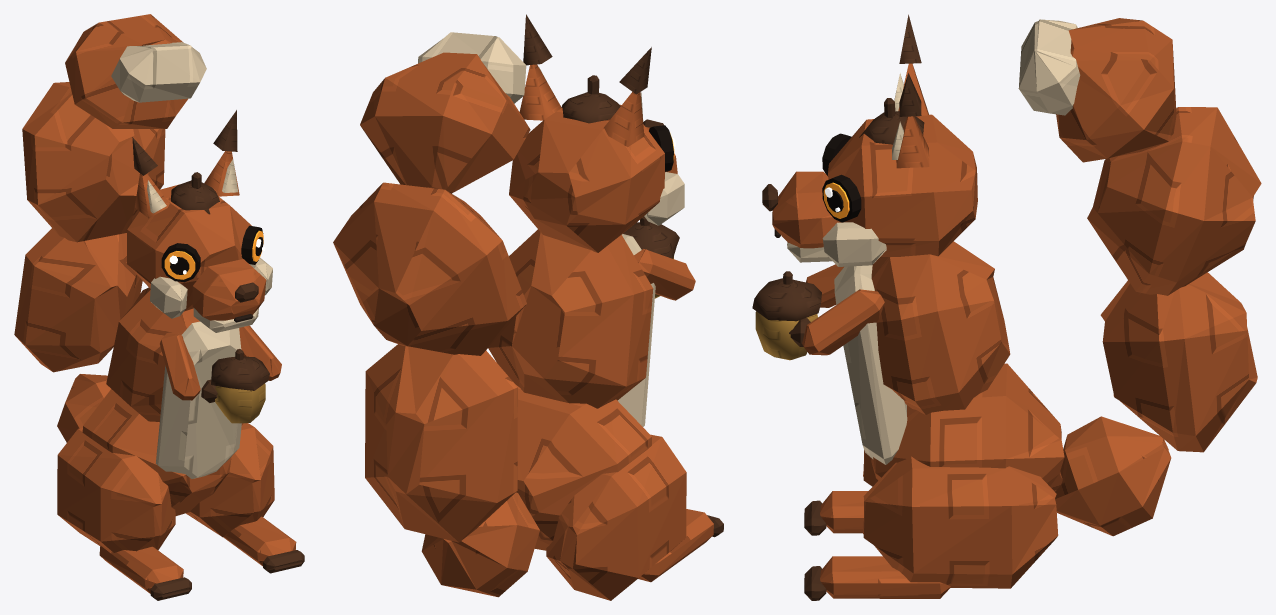
File: AcornSquirrel.glb
3 renders of one model, left to right at view 1: azimuth 30°, elevation 25°; view 2: azimuth 150°, elevation 25°; view 3: azimuth 270°, elevation 25°, orthographic. The views are drawn at different scales.
Visible parts, largest first — view 1: tail_3, tail_2, haunch_R, belly, tail_4, head.001, torso, pelvis, haunch_L, tail_fluff, snout, foot_R (+18 smaller); view 2: tail_2, tail_3, torso, tail_4, head.001, haunch_R, pelvis, tail_1, tail_fluff, arm_R, foot_R, ear_L (+8 smaller); view 3: tail_3, haunch_L, tail_2, torso, tail_4, head.001, pelvis, tail_1, belly, tail_fluff, foot_L, snout (+10 smaller).
Boxes of the visible parts, <box> form: tail_3: <box>22,82,165,242</box>; tail_2: <box>14,228,142,372</box>; haunch_R: <box>57,428,175,552</box>; belly: <box>155,321,241,478</box>; tail_4: <box>65,14,187,128</box>; head.001: <box>127,184,251,311</box>; torso: <box>106,287,199,421</box>; pelvis: <box>82,389,243,515</box>; haunch_L: <box>186,423,274,537</box>; tail_fluff: <box>111,42,206,102</box>; snout: <box>192,259,266,320</box>; foot_R: <box>99,545,183,593</box>; tail_2: <box>365,344,517,542</box>; tail_3: <box>333,182,526,355</box>; torso: <box>488,229,653,408</box>; tail_4: <box>360,52,530,193</box>; head.001: <box>509,104,664,252</box>; haunch_R: <box>546,434,686,600</box>; pelvis: <box>516,385,651,550</box>; tail_1: <box>421,492,539,597</box>; tail_fluff: <box>418,32,526,103</box>; arm_R: <box>634,249,695,300</box>; foot_R: <box>638,509,713,582</box>; ear_L: <box>519,64,561,120</box>; tail_3: <box>1087,107,1261,295</box>; haunch_L: <box>863,456,1058,588</box>; tail_2: <box>1100,272,1257,452</box>; torso: <box>871,241,1010,414</box>; tail_4: <box>1056,18,1176,162</box>; head.001: <box>828,114,977,256</box>; pelvis: <box>871,363,1064,491</box>; tail_1: <box>1055,416,1171,536</box>; belly: <box>834,265,907,464</box>; tail_fluff: <box>1018,19,1080,115</box>; foot_L: <box>820,556,950,598</box>; snout: <box>772,171,837,248</box>.
Bounding box in the file's own units: 0.7851 × 1.96 × 1.65.
8 materials, 8 textured.
